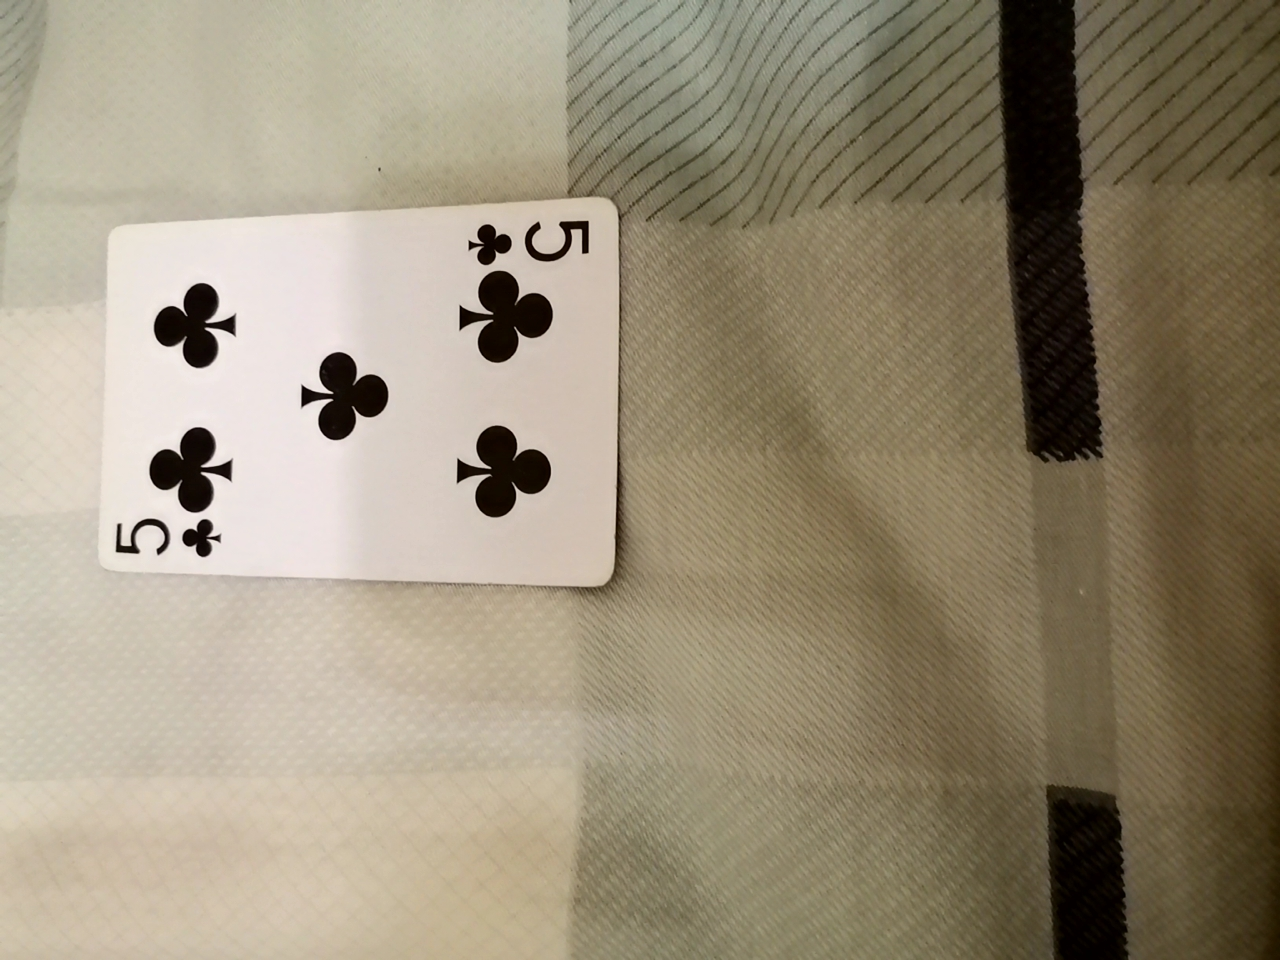mh 5: (84, 199, 609, 597)
